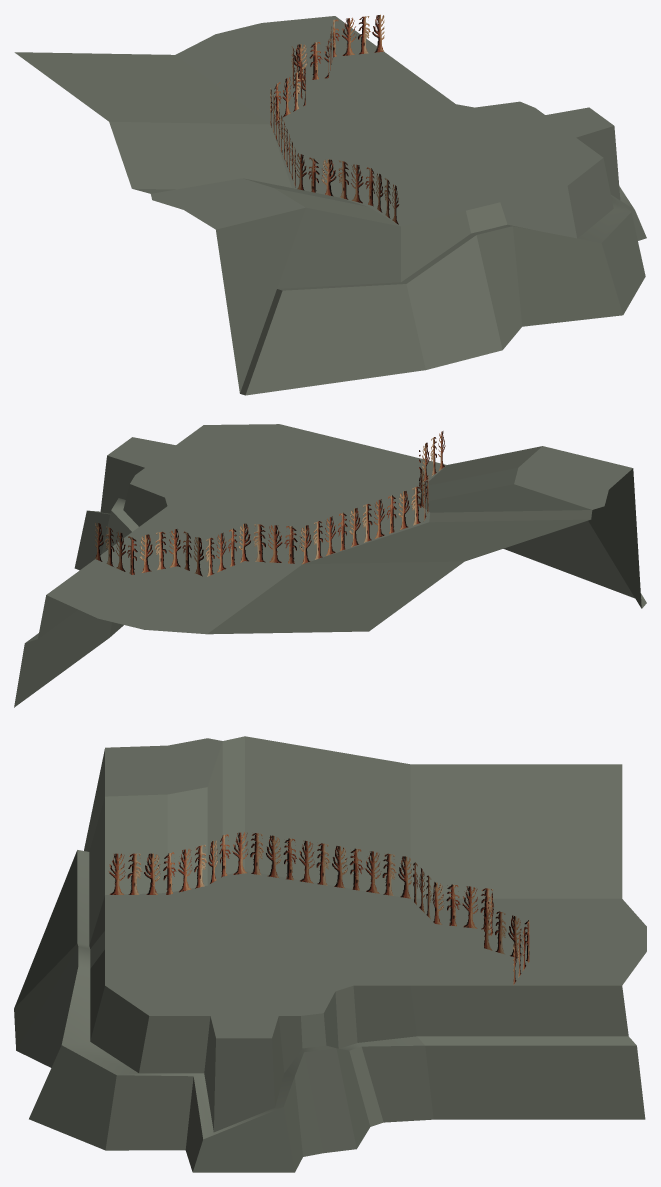
File: DressingSalas_N2_A1.fbx
3 renders of one model, top to bottom at view 1: azimuth 30°, elevation 25°; view 2: azimuth 150°, elevation 25°; view 3: azimuth 270°, elevation 25°, orthographic. The views are drawn at different scales.
Visible parts, largest first — view 1: Playable_Area1, ArbolesPlanos; view 2: Playable_Area1, ArbolesPlanos; view 3: Playable_Area1, ArbolesPlanos.
Part boxes in pixels (x1=…): Playable_Area1: x1=14, y1=16, x2=646, y2=395; ArbolesPlanos: x1=270, y1=14, x2=399, y2=224; Playable_Area1: x1=14, y1=424, x2=646, y2=707; ArbolesPlanos: x1=95, y1=431, x2=445, y2=576; Playable_Area1: x1=14, y1=736, x2=646, y2=1172; ArbolesPlanos: x1=108, y1=832, x2=529, y2=984.
Bounding box in the file's own units: 103 × 31 × 104.
Materials: 2 (1 with a texture image).
